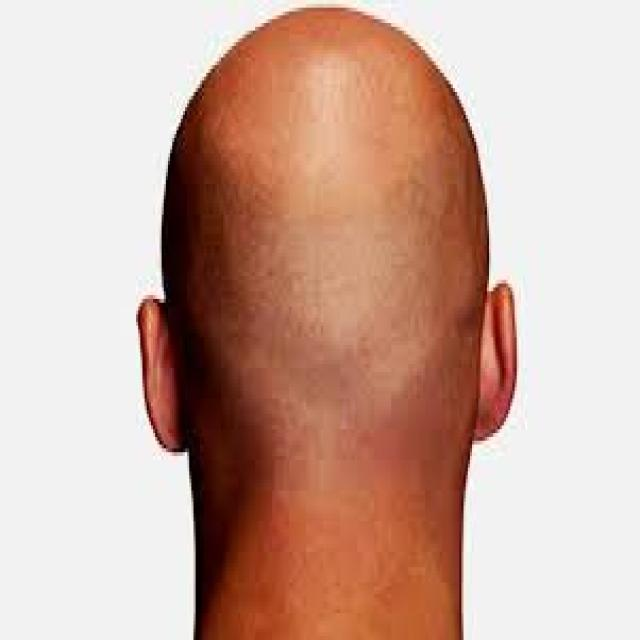Non_Helmet: (123, 2, 539, 592)
